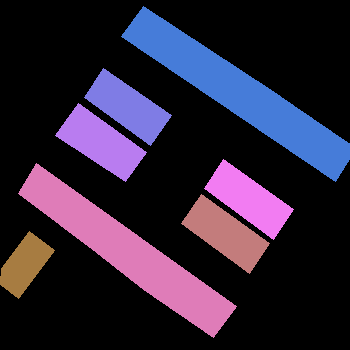parkingspot: (121, 6, 350, 181), (18, 163, 236, 337), (204, 159, 293, 239), (55, 103, 146, 181), (181, 194, 269, 273), (84, 68, 171, 145), (0, 231, 54, 298)
